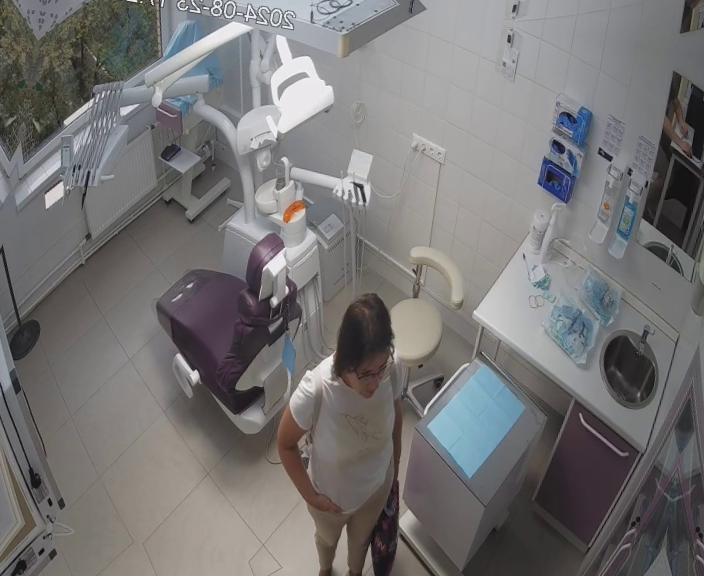Empty: (134, 214, 345, 448)
